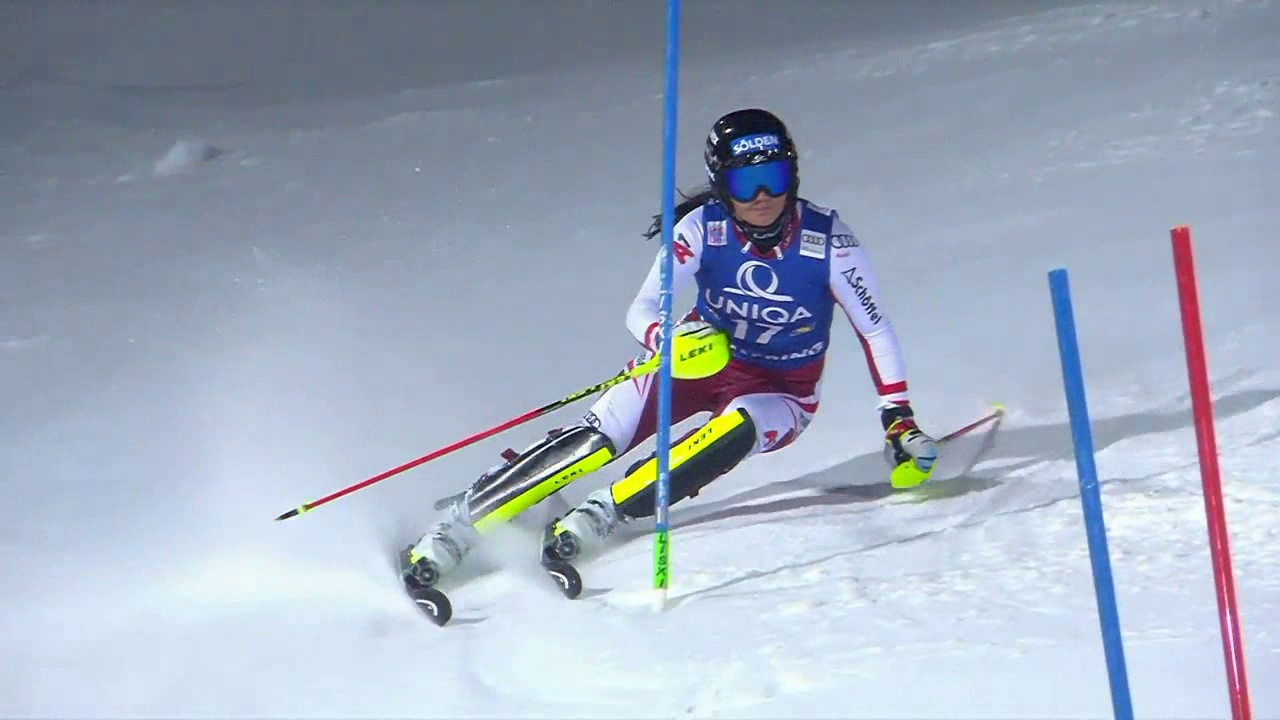uniqa: (711, 254, 816, 337)
